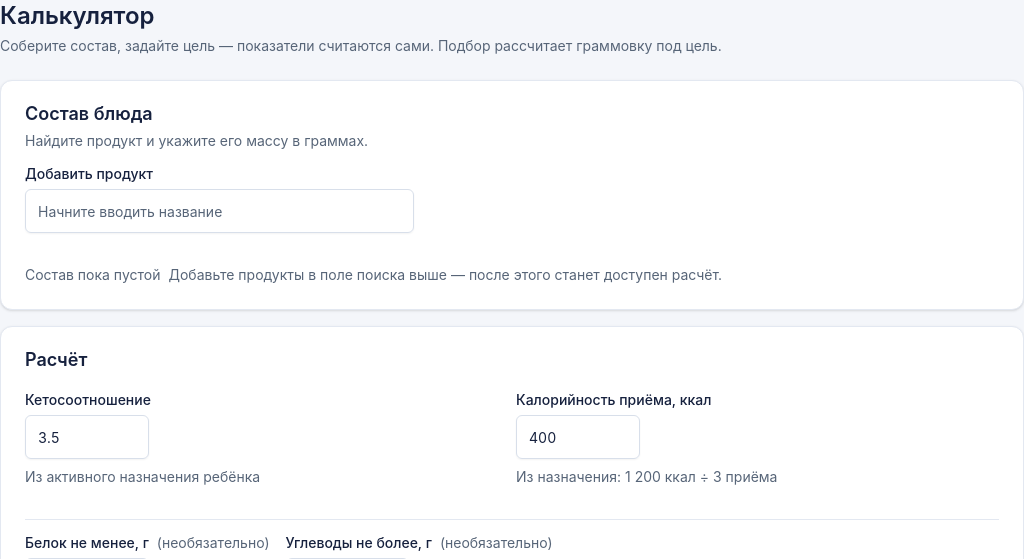
Scenario: калькулятор › исключённый продукт без имени назван словами, а не идентификатором
Type "масло" into the dropdown labelled "Добавить продукт" at (219, 211), box left=25, top=189, right=414, bottom=233
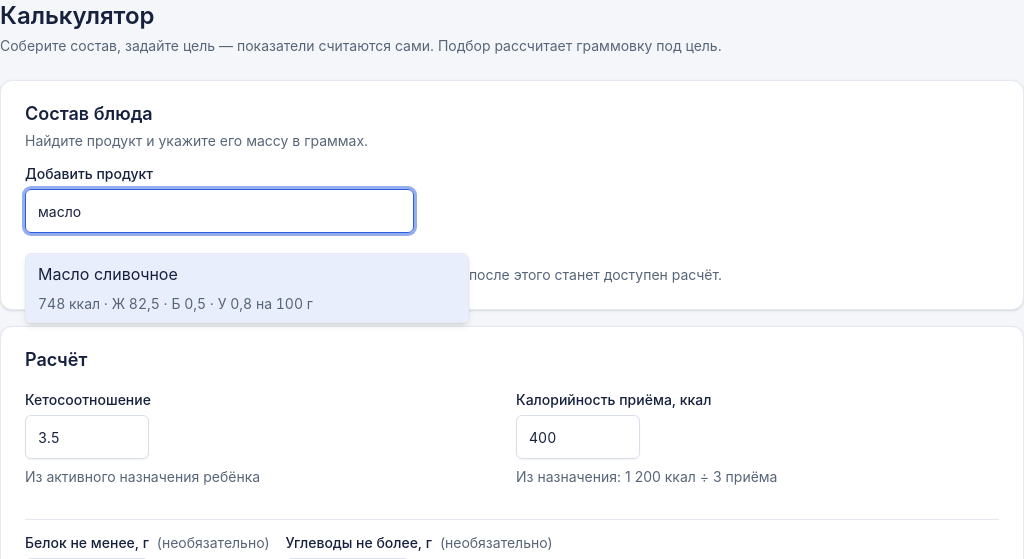
Click the option "Масло сливочное 748 ккал · Ж 82,5 · Б 0,5 · У 0,8 на 100 г" at (108, 274), box left=26, top=254, right=468, bottom=322
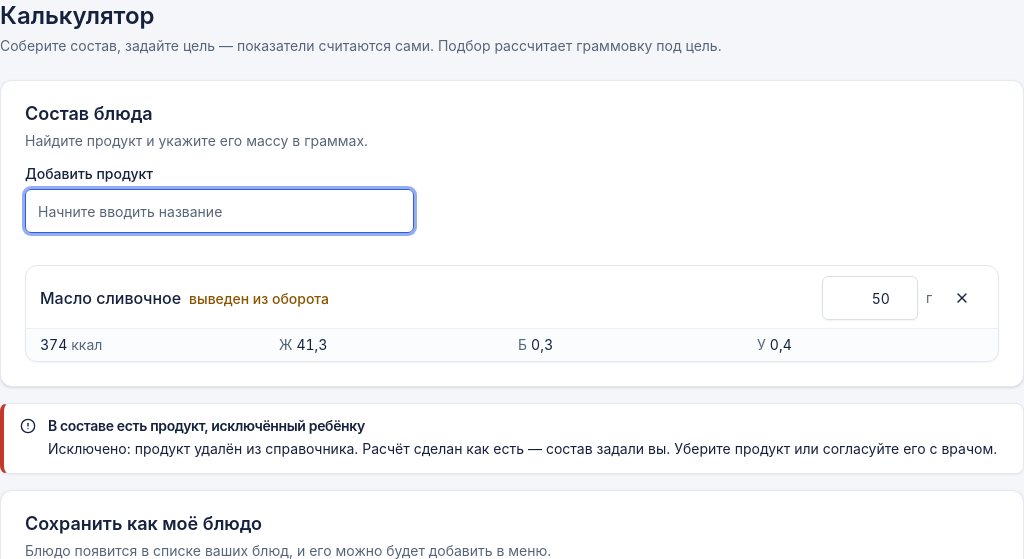
Now the text "продукт удалён из справочника" is shown, box left=48, top=440, right=997, bottom=457
